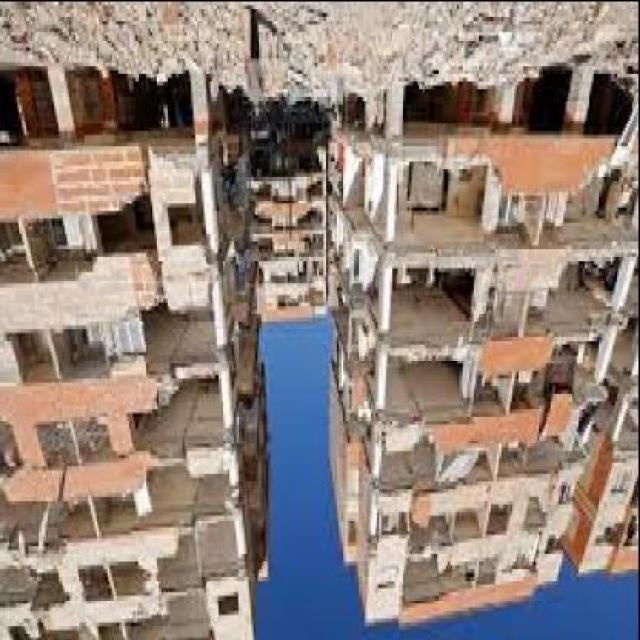Destroyed_building: (0, 4, 634, 640)
